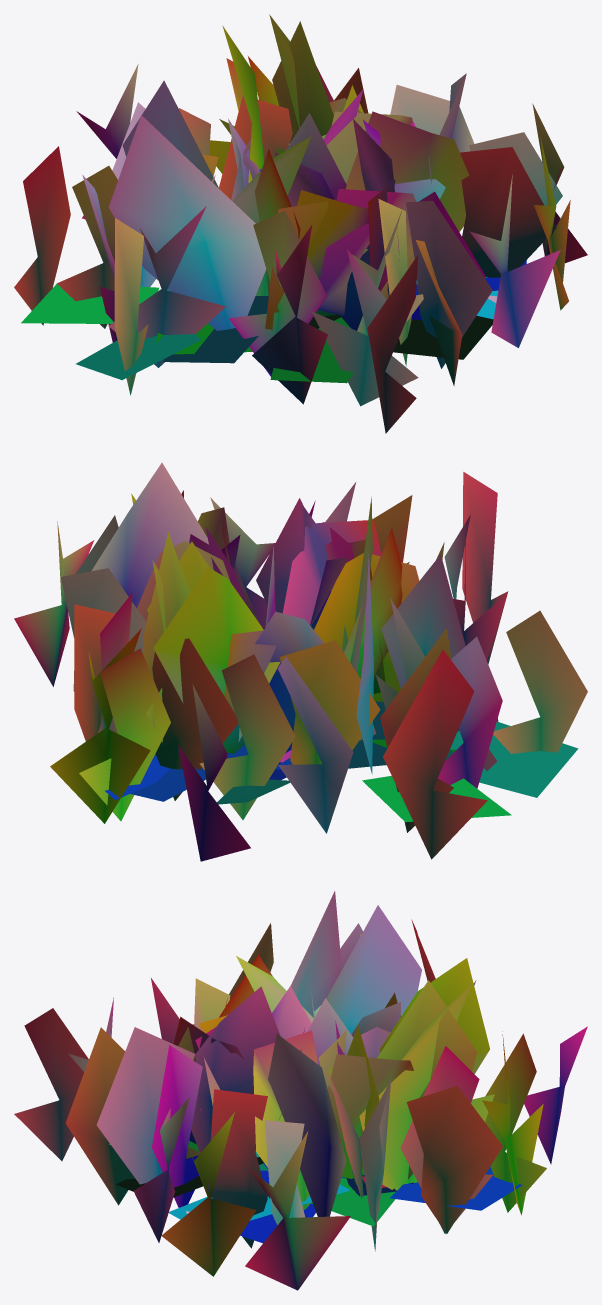
File: Kikuyu_Grass_wiljearqx_High_wiljearqx_VarD_LOD2.fbx
3 renders of one model, top to bottom at view 1: azimuth 30°, elevation 25°; view 2: azimuth 150°, elevation 25°; view 3: azimuth 270°, elevation 25°, orthographic. The views are drawn at different scales.
Parts seen in each view (by area): view 1: _80i9_VarD_LOD5; view 2: _80i9_VarD_LOD5; view 3: _80i9_VarD_LOD5.
Boxes of the visible parts, <box> form: _80i9_VarD_LOD5: <box>14,14,587,433</box>; _80i9_VarD_LOD5: <box>14,462,587,861</box>; _80i9_VarD_LOD5: <box>14,891,587,1290</box>.
Size of the model in its own units: 71.25 by 34 by 75.93.
